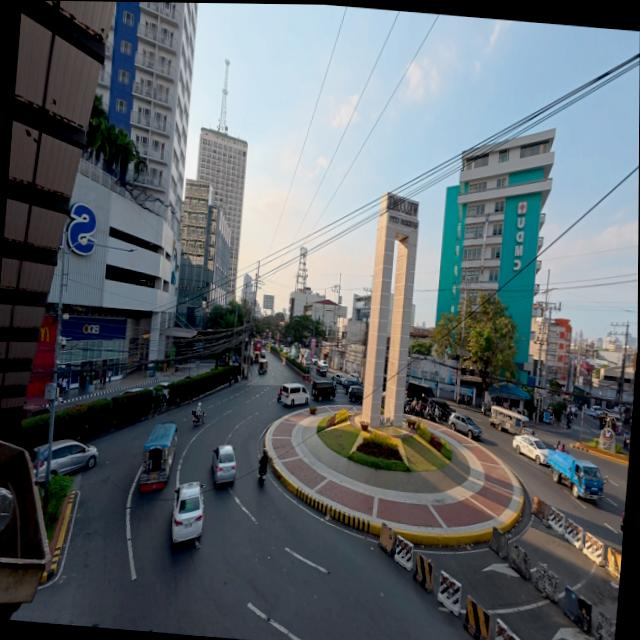Jeepneys: (139, 422, 176, 491), (489, 406, 534, 435)
car: (171, 482, 202, 542), (49, 440, 97, 475), (512, 435, 548, 464), (212, 444, 235, 483), (448, 413, 481, 438), (426, 399, 452, 423), (342, 376, 363, 394), (22, 404, 48, 418), (151, 381, 168, 400), (121, 385, 145, 397), (347, 385, 362, 402), (583, 406, 603, 417), (331, 372, 347, 385), (315, 363, 327, 376), (591, 406, 603, 417), (582, 406, 595, 416), (345, 373, 359, 381), (620, 511, 624, 531), (311, 358, 317, 366)
motorcycle: (191, 410, 205, 425), (258, 466, 266, 484), (457, 395, 469, 407), (480, 402, 490, 415), (622, 436, 629, 450), (565, 417, 571, 429), (276, 393, 280, 402)
trucks: (548, 450, 604, 499)
vans: (280, 383, 308, 405), (311, 380, 334, 401)
